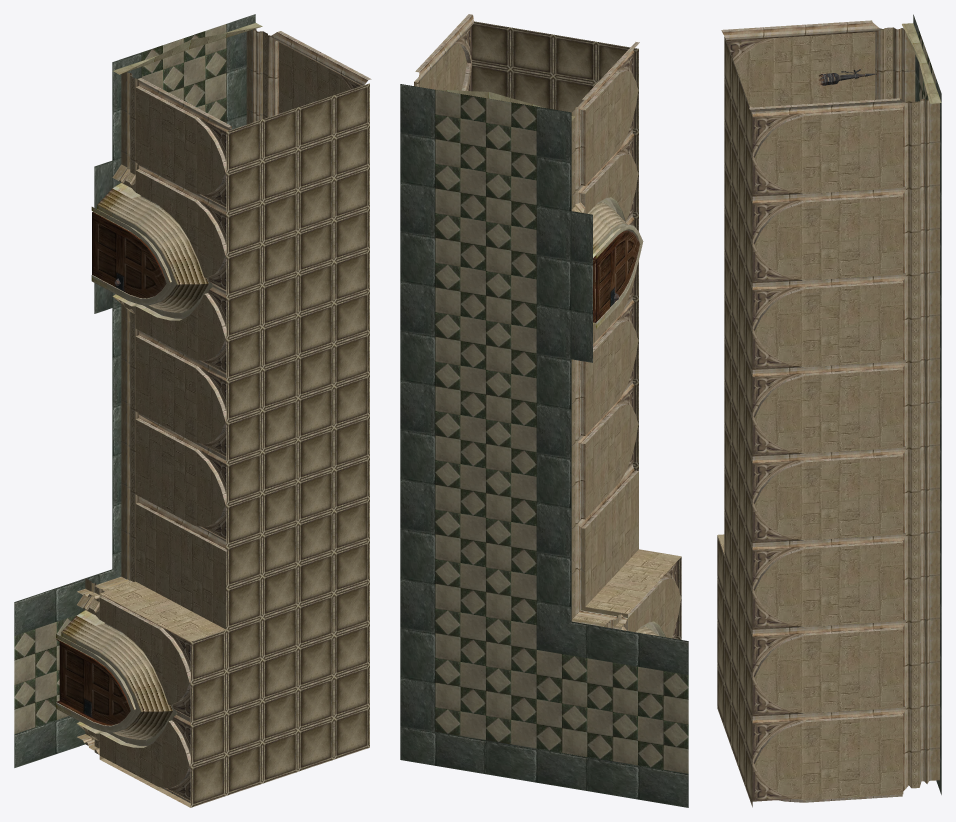
File: Third-transformed.glb
The picture shows the model from 3 angles, left to right: view 1: azimuth 30°, elevation 25°; view 2: azimuth 150°, elevation 25°; view 3: azimuth 270°, elevation 25°; orthographic projection. The views are drawn at different scales.
Parts seen in each view (by area): view 1: Third_Hogwarts, Third_Reveal; view 2: Third_Hogwarts; view 3: Third_Hogwarts.
Boxes of the visible parts, left/top/right/bottom form: Third_Hogwarts: left=14, top=14, right=371, bottom=807; Third_Reveal: left=97, top=662, right=130, bottom=724; Third_Hogwarts: left=400, top=14, right=688, bottom=807; Third_Hogwarts: left=717, top=14, right=941, bottom=807.
Size of the model in its own units: 0.8844 by 1.98 by 0.5718.
25 materials, 25 textured.
